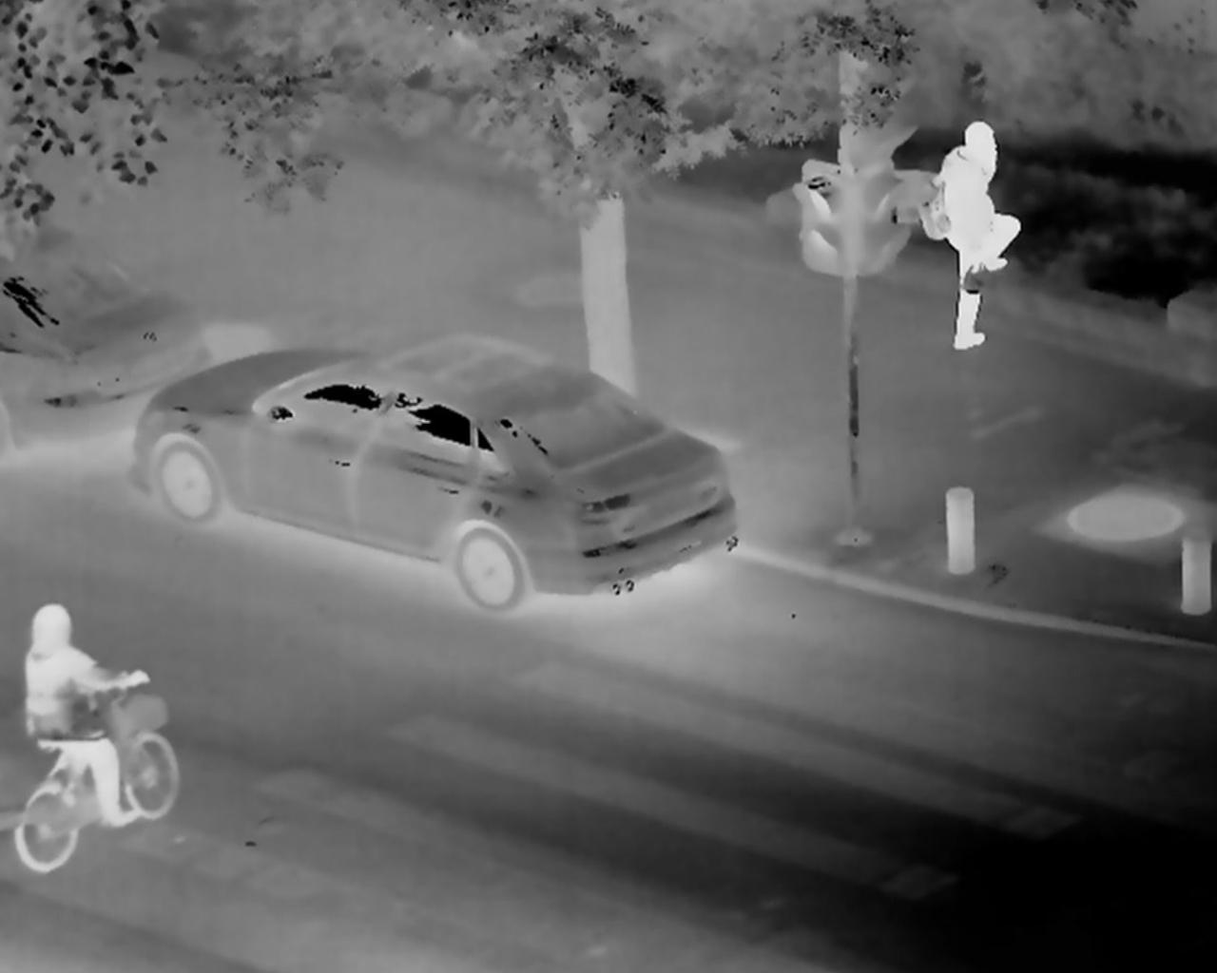person: (18, 600, 170, 841), (895, 104, 1034, 362)
